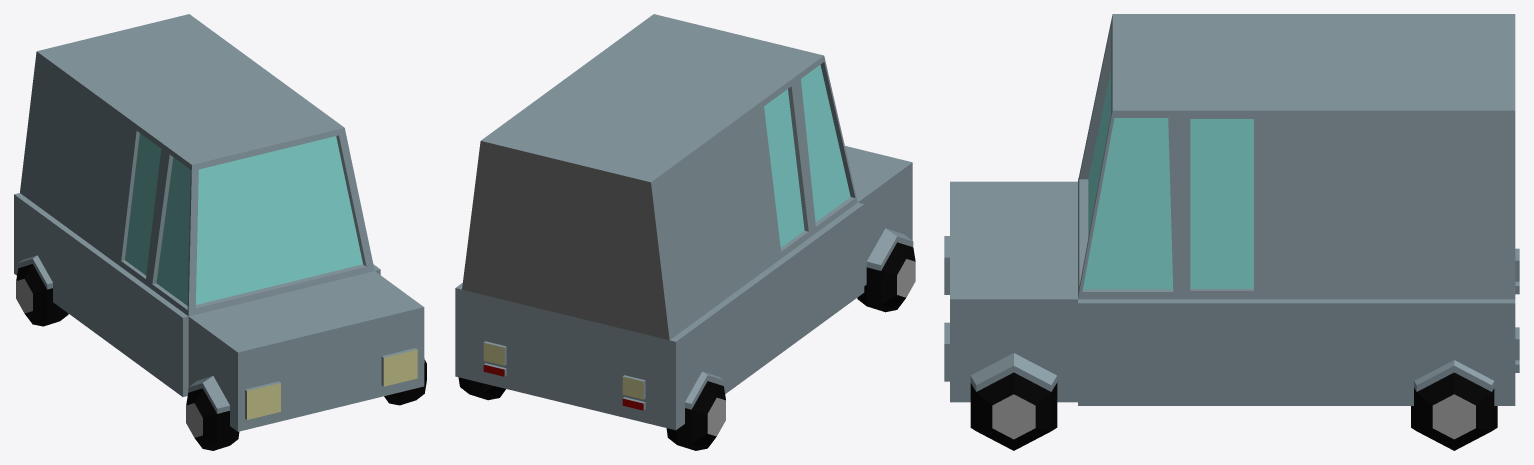
Rendered from LOW POLY van.fbx.
3 renders of one model, left to right at view 1: azimuth 30°, elevation 25°; view 2: azimuth 150°, elevation 25°; view 3: azimuth 270°, elevation 25°, orthographic. The views are drawn at different scales.
Parts seen in each view (by area): view 1: Cube; view 2: Cube; view 3: Cube.
Part boxes in pixels (x1,y1,x2,y2): Cube: (14,14,426,450); Cube: (455,14,915,450); Cube: (944,14,1519,450).
Bounding box in the file's own units: 763 × 827 × 1310.
